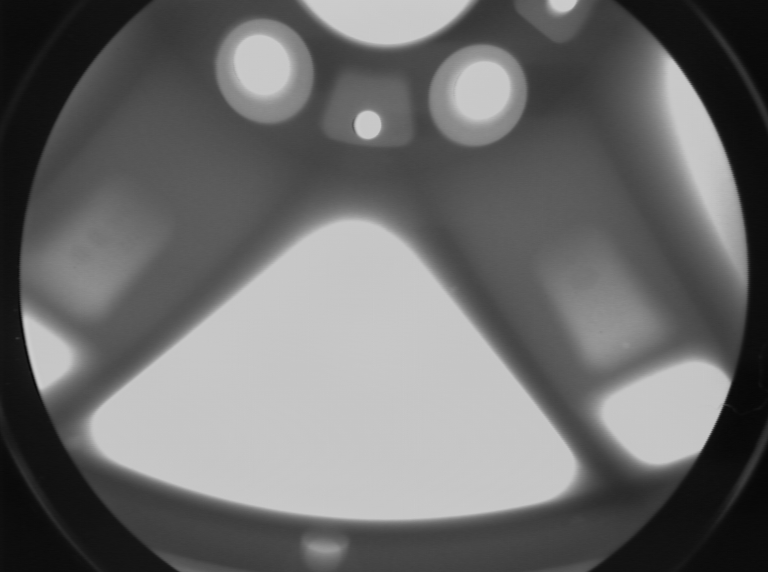defect: (60, 434, 87, 457)
